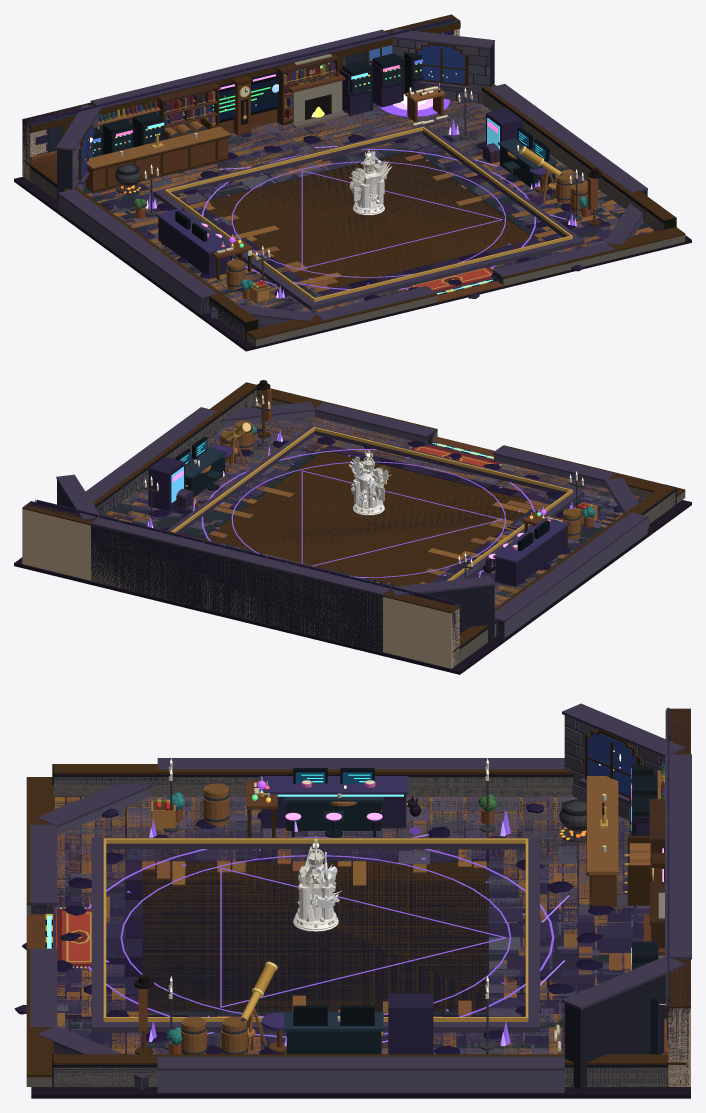
The model's file is wizard-pieces.glb.
3 views of the same model, one above another, from view 1: azimuth 30°, elevation 25°; view 2: azimuth 150°, elevation 25°; view 3: azimuth 270°, elevation 25° (orthographic). The views are drawn at different scales.
Parts seen in each view (by area): view 1: lumar_diorama_01, classic_diorama_04, arcadia_diorama_02, lumar_diorama_02, lumar_diorama_12, arcadia_diorama_01, enigma_diorama_02, lumar_diorama_10, classic_diorama_18, arcadia_diorama_03, enigma_diorama_06, classic_diorama_01 (+39 smaller); view 2: lumar_diorama_01, classic_diorama_10, classic_diorama_04, lumar_diorama_09, arcadia_diorama_02, classic_diorama_12, enigma_diorama_02, classic_diorama_01, lumar_diorama_12, classic_diorama_18, arcadia_diorama_03, lumar_diorama_02 (+24 smaller); view 3: lumar_diorama_01, arcadia_diorama_01, classic_diorama_04, arcadia_diorama_02, arcadia_diorama_03, classic_diorama_12, lumar_diorama_12, lumar_diorama_02, classic_diorama_10, enigma_diorama_02, singularity_diorama_07, classic_diorama_05 (+35 smaller).
Part boxes in pixels (x1=…): lumar_diorama_01: x1=22, y1=14, x2=685, y2=339; classic_diorama_04: x1=56, y1=29, x2=647, y2=321; arcadia_diorama_02: x1=35, y1=18, x2=614, y2=328; lumar_diorama_02: x1=86, y1=99, x2=617, y2=311; lumar_diorama_12: x1=24, y1=91, x2=685, y2=346; arcadia_diorama_01: x1=210, y1=150, x2=655, y2=278; enigma_diorama_02: x1=83, y1=102, x2=655, y2=326; lumar_diorama_10: x1=30, y1=71, x2=595, y2=302; classic_diorama_18: x1=164, y1=70, x2=572, y2=301; arcadia_diorama_03: x1=97, y1=33, x2=649, y2=310; enigma_diorama_06: x1=22, y1=22, x2=664, y2=325; classic_diorama_01: x1=14, y1=176, x2=691, y2=351; lumar_diorama_01: x1=22, y1=382, x2=685, y2=651; classic_diorama_10: x1=57, y1=432, x2=504, y2=651; classic_diorama_04: x1=56, y1=401, x2=649, y2=622; lumar_diorama_09: x1=22, y1=509, x2=459, y2=668; arcadia_diorama_02: x1=36, y1=418, x2=645, y2=600; classic_diorama_12: x1=223, y1=411, x2=649, y2=638; enigma_diorama_02: x1=103, y1=403, x2=645, y2=607; classic_diorama_01: x1=14, y1=500, x2=691, y2=674; lumar_diorama_12: x1=97, y1=390, x2=685, y2=667; classic_diorama_18: x1=171, y1=426, x2=572, y2=580; arcadia_diorama_03: x1=124, y1=417, x2=635, y2=605; lumar_diorama_02: x1=118, y1=420, x2=620, y2=605; lumar_diorama_01: x1=26, y1=708, x2=690, y2=1077; arcadia_diorama_01: x1=53, y1=796, x2=556, y2=1054; classic_diorama_04: x1=30, y1=703, x2=691, y2=1080; arcadia_diorama_02: x1=54, y1=722, x2=669, y2=1054; arcadia_diorama_03: x1=54, y1=801, x2=669, y2=1054; classic_diorama_12: x1=30, y1=734, x2=660, y2=1092; lumar_diorama_12: x1=26, y1=777, x2=686, y2=1086; lumar_diorama_02: x1=76, y1=770, x2=660, y2=1054; classic_diorama_10: x1=31, y1=720, x2=666, y2=1089; enigma_diorama_02: x1=37, y1=801, x2=666, y2=1087; singularity_diorama_07: x1=57, y1=812, x2=614, y2=1054; classic_diorama_05: x1=55, y1=796, x2=649, y2=1054.
Bounding box in the file's own units: 16.24 × 4.5 × 15.
